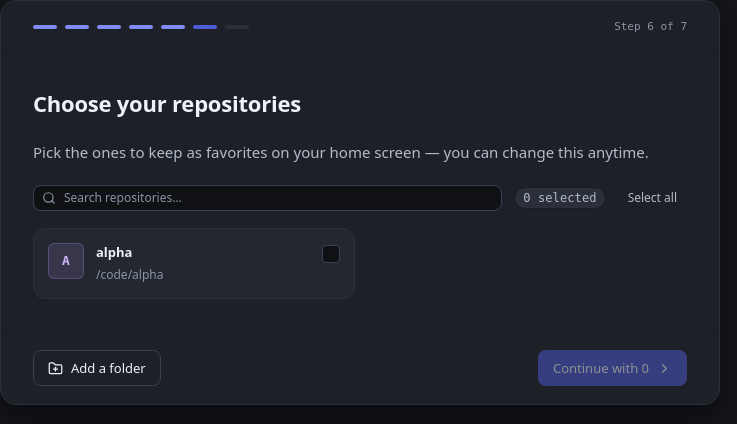
ReposPickStep › 'Continue' is disabled when nothing is selected and enabled once a repo is picked
Expected: the button "Continue with 0" is disabled, [538,350,687,386]
Click the checkbox named "alpha" at (331, 254), box [322,245,340,263]
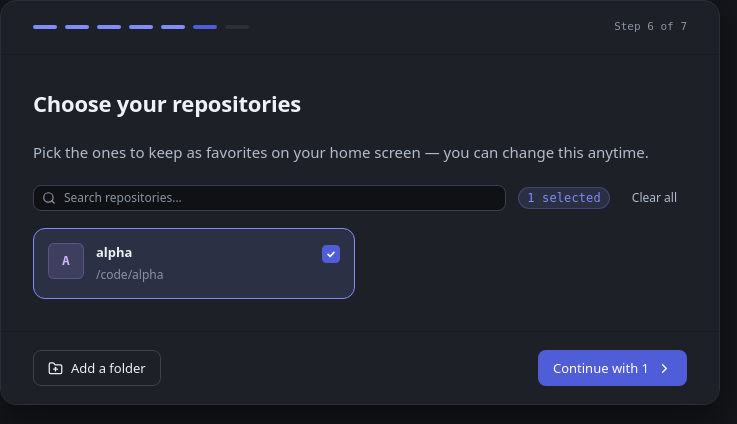
Expected: the button "Continue with 1" is enabled, [538,350,687,386]
